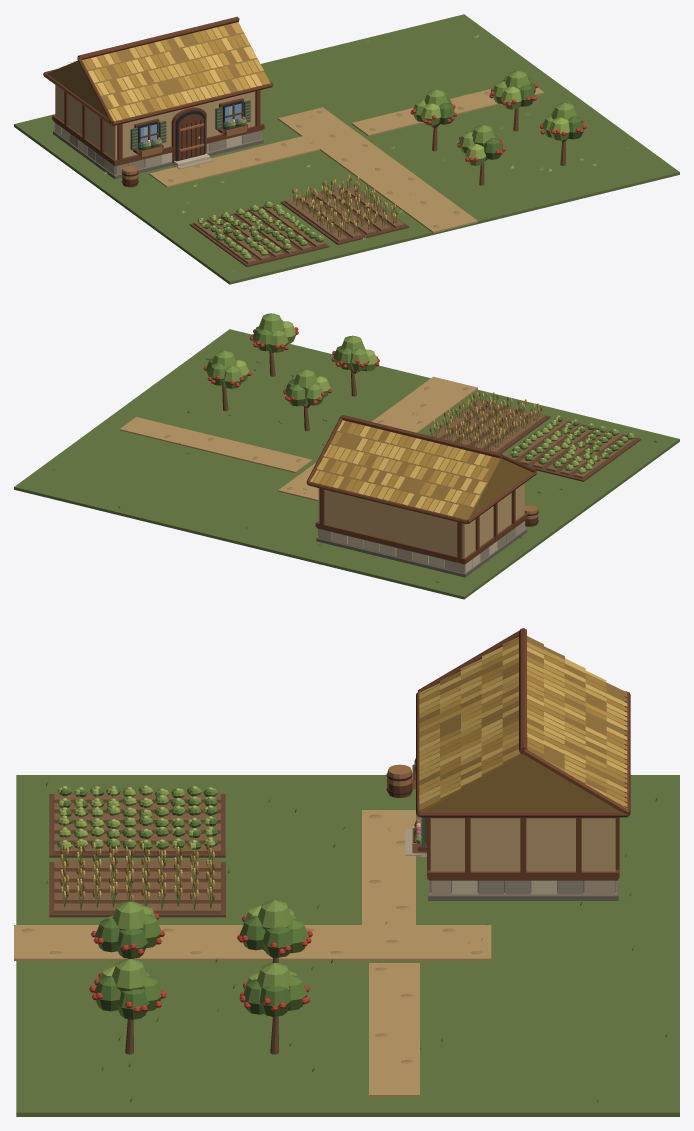
The model's file is farm-nivel-1.glb.
3 views of the same model, one above another, from view 1: azimuth 30°, elevation 25°; view 2: azimuth 150°, elevation 25°; view 3: azimuth 270°, elevation 25° (orthographic). The views are drawn at different scales.
Parts seen in each view (by area): view 1: Fazenda 01 #677a42, Fazenda 01 #bc9a64, Fazenda 01 #70432c, Fazenda 01 #92703a, Fazenda 01 #886345, Fazenda 01 #c2a171, Fazenda 01 #7a9448, Fazenda 01 #ab843d, Fazenda 01 #bc9549, Fazenda 01 #90a850, Fazenda 01 #6d4733, Fazenda 01 #65823d (+17 smaller); view 2: Fazenda 01 #677a42, Fazenda 01 #bc9a64, Fazenda 01 #c2a171, Fazenda 01 #92703a, Fazenda 01 #70432c, Fazenda 01 #886345, Fazenda 01 #7a9448, Fazenda 01 #65823d, Fazenda 01 #ab843d, Fazenda 01 #d4ae5e, Fazenda 01 #bc9549, Fazenda 01 #6d4733 (+12 smaller); view 3: Fazenda 01 #677a42, Fazenda 01 #bc9a64, Fazenda 01 #92703a, Fazenda 01 #886345, Fazenda 01 #c2a171, Fazenda 01 #70432c, Fazenda 01 #567337, Fazenda 01 #ab843d, Fazenda 01 #7a9448, Fazenda 01 #65823d, Fazenda 01 #bc9549, Fazenda 01 #d4ae5e (+13 smaller).
Part boxes in pixels (left/top/right/bottom): Fazenda 01 #677a42: left=14, top=14, right=679, bottom=284; Fazenda 01 #bc9a64: left=149, top=87, right=544, bottom=233; Fazenda 01 #70432c: left=43, top=16, right=273, bottom=187; Fazenda 01 #92703a: left=47, top=22, right=268, bottom=120; Fazenda 01 #886345: left=193, top=184, right=404, bottom=263; Fazenda 01 #c2a171: left=55, top=85, right=261, bottom=159; Fazenda 01 #7a9448: left=103, top=70, right=583, bottom=259; Fazenda 01 #ab843d: left=60, top=30, right=270, bottom=118; Fazenda 01 #bc9549: left=94, top=22, right=258, bottom=114; Fazenda 01 #90a850: left=182, top=34, right=596, bottom=259; Fazenda 01 #6d4733: left=189, top=184, right=408, bottom=267; Fazenda 01 #65823d: left=186, top=39, right=628, bottom=271; Fazenda 01 #677a42: left=14, top=329, right=679, bottom=599; Fazenda 01 #bc9a64: left=119, top=376, right=477, bottom=501; Fazenda 01 #c2a171: left=318, top=483, right=524, bottom=557; Fazenda 01 #92703a: left=313, top=421, right=532, bottom=519; Fazenda 01 #70432c: left=306, top=415, right=538, bottom=564; Fazenda 01 #886345: left=430, top=399, right=637, bottom=478; Fazenda 01 #7a9448: left=179, top=313, right=634, bottom=545; Fazenda 01 #65823d: left=118, top=329, right=657, bottom=582; Fazenda 01 #ab843d: left=319, top=422, right=482, bottom=514; Fazenda 01 #d4ae5e: left=337, top=420, right=486, bottom=516; Fazenda 01 #bc9549: left=313, top=429, right=491, bottom=509; Fazenda 01 #6d4733: left=429, top=399, right=641, bottom=481; Fazenda 01 #677a42: left=16, top=775, right=679, bottom=1116; Fazenda 01 #bc9a64: left=14, top=810, right=491, bottom=1096; Fazenda 01 #92703a: left=419, top=636, right=627, bottom=811; Fazenda 01 #886345: left=54, top=793, right=220, bottom=913; Fazenda 01 #c2a171: left=430, top=818, right=615, bottom=871; Fazenda 01 #70432c: left=387, top=628, right=630, bottom=880; Fazenda 01 #567337: left=60, top=786, right=292, bottom=1019; Fazenda 01 #ab843d: left=419, top=636, right=627, bottom=810; Fazenda 01 #7a9448: left=46, top=786, right=631, bottom=1067; Fazenda 01 #65823d: left=46, top=782, right=666, bottom=1101; Fazenda 01 #bc9549: left=419, top=642, right=627, bottom=806; Fazenda 01 #d4ae5e: left=419, top=644, right=627, bottom=804.
Bounding box in the file's own units: 17.81 × 3.97 × 14.84.
